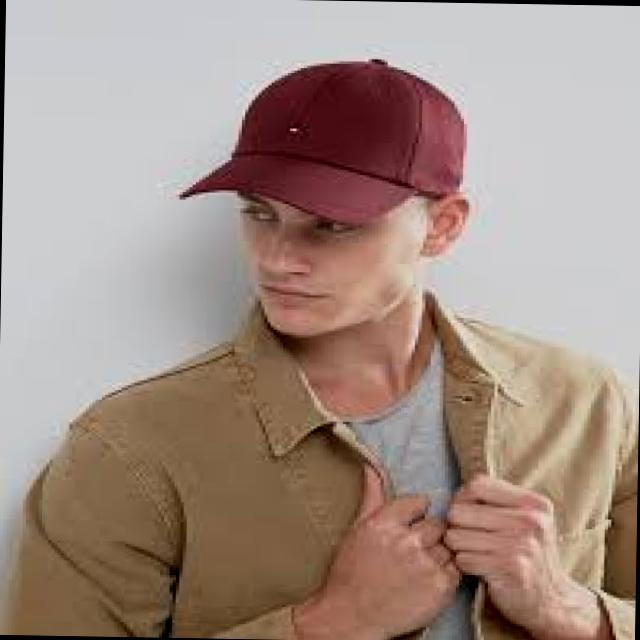cap: (158, 25, 494, 254)
